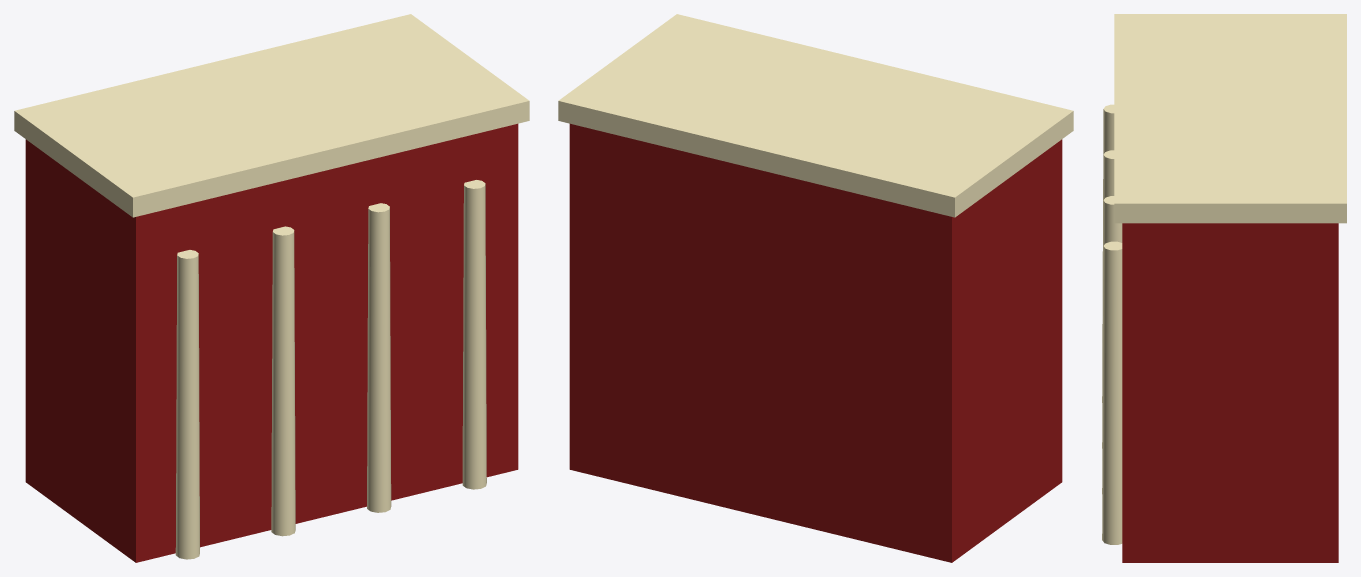
File: colonial_facade.glb
3 views of the same model, side by side, from view 1: azimuth 30°, elevation 25°; view 2: azimuth 150°, elevation 25°; view 3: azimuth 270°, elevation 25° (orthographic). The views are drawn at different scales.
Visible parts, largest first — view 1: ColonialFacade; view 2: ColonialFacade; view 3: ColonialFacade.
Part boxes in pixels (bbox=[...]): ColonialFacade: bbox=[14, 14, 529, 562]; ColonialFacade: bbox=[558, 14, 1073, 562]; ColonialFacade: bbox=[1102, 14, 1346, 562].
Bounding box in the file's own units: 16.6 × 14.8 × 9.05.
